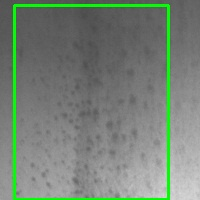pitted_surface: (14, 6, 168, 199)
